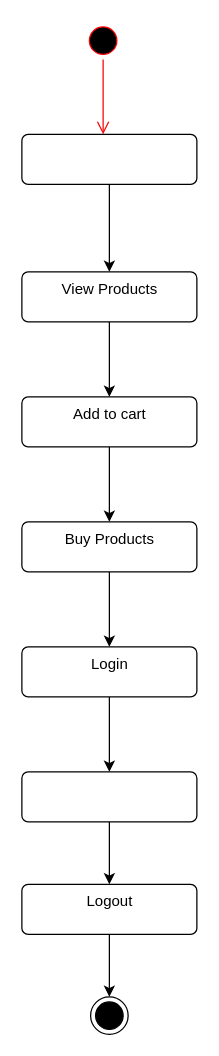
The diagram is 219 pixels wide and 1056 high, and some of its shapes have lost their labels. The shapes that lost their labels are listed below. From the top down, each one's centre as x and y in pixels, then its label:
pixel 109 158: Find Location
pixel 109 796: Payment
